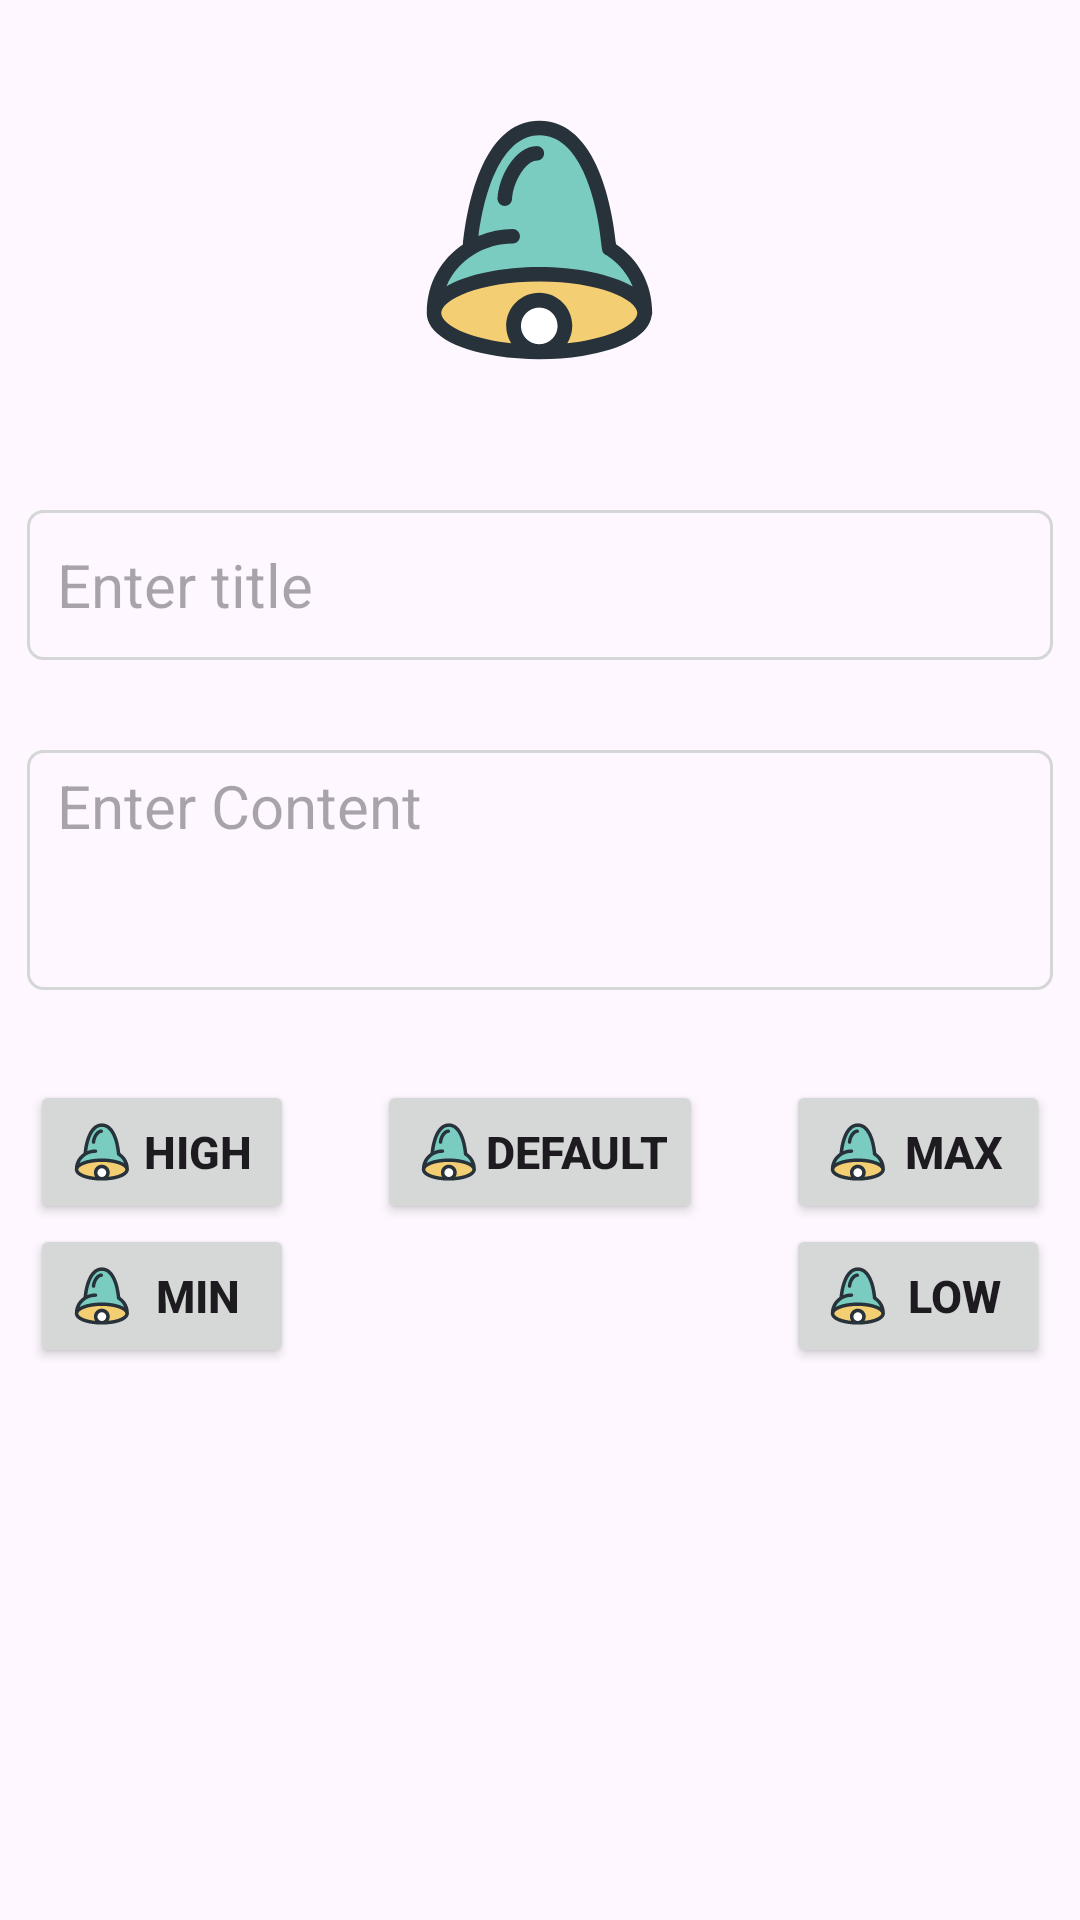

Icons on this 1080 x 1920 Android screen, each with the point to tap as (x=x, y=y):
notification: (x=539, y=240)
